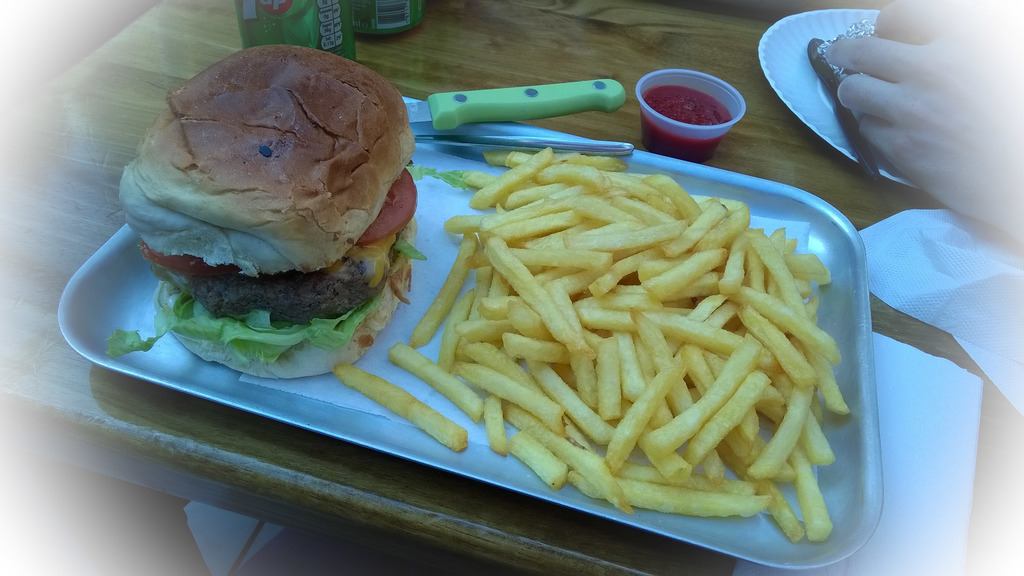French fries: (325, 141, 854, 540)
